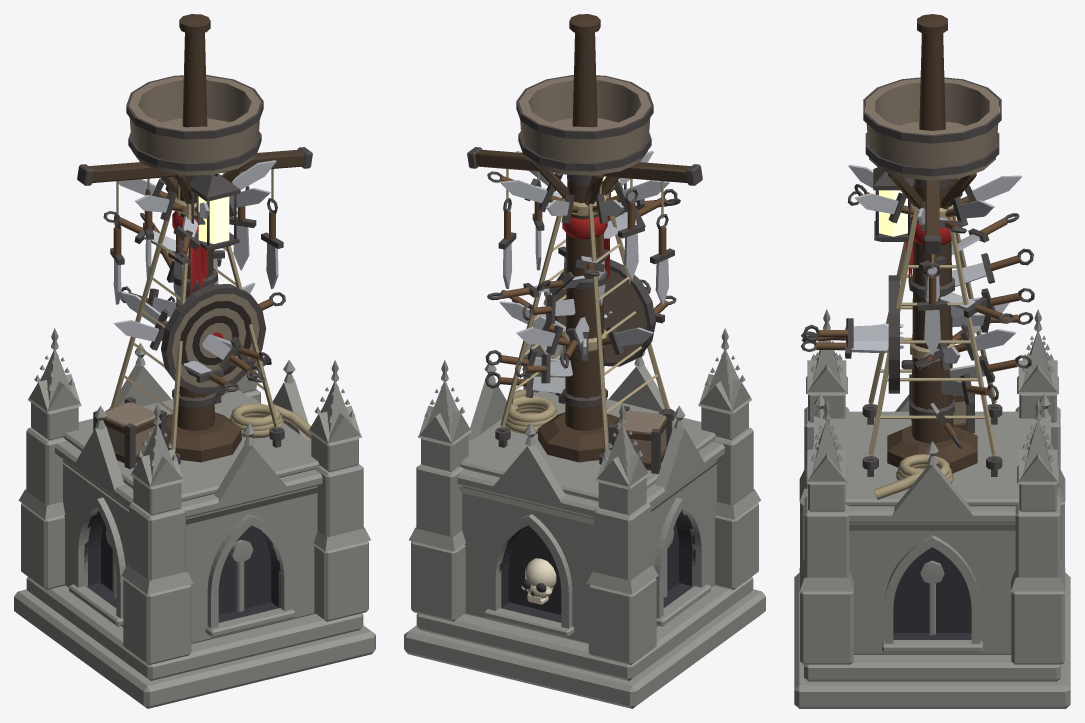
The model's file is tower_knife_2.glb.
The picture shows the model from 3 angles, left to right: view 1: azimuth 30°, elevation 25°; view 2: azimuth 150°, elevation 25°; view 3: azimuth 270°, elevation 25°; orthographic projection. The views are drawn at different scales.
Parts seen in each view (by area): view 1: tower, turret; view 2: tower, turret; view 3: tower, turret.
Part boxes in pixels (x1=…): tower: x1=14, y1=160, x2=375, y2=708; turret: x1=77, y1=14, x2=312, y2=305; tower: x1=404, y1=151, x2=765, y2=708; turret: x1=467, y1=14, x2=702, y2=306; tower: x1=794, y1=164, x2=1070, y2=708; turret: x1=863, y1=14, x2=1001, y2=355.
Bounding box in the file's own units: 1.7 × 4.31 × 1.7.
